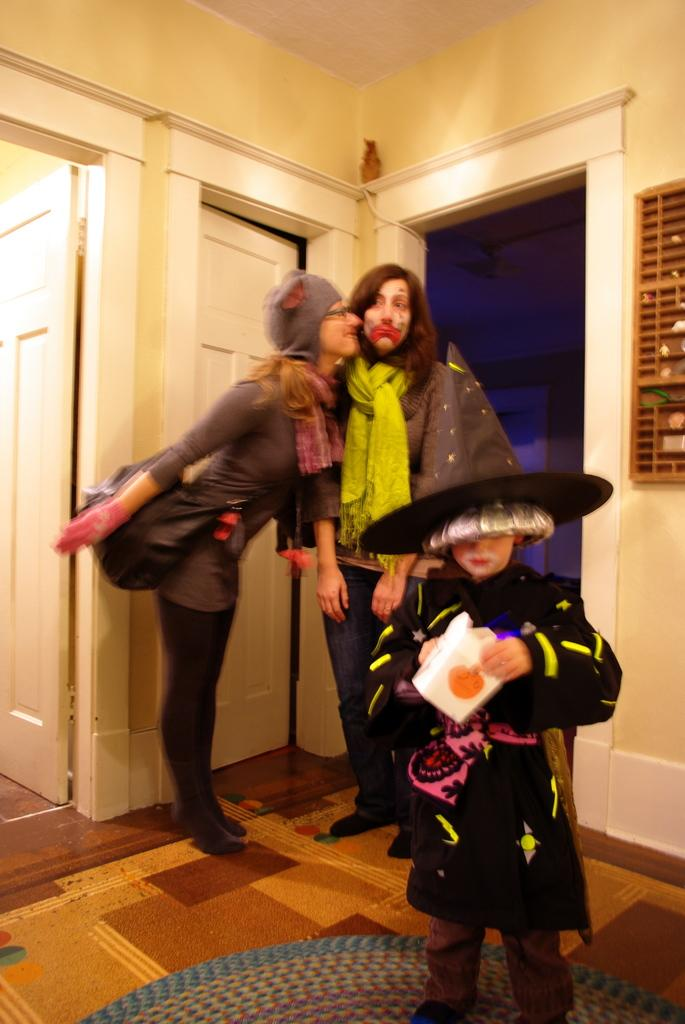Hat: (358, 342, 618, 552)
